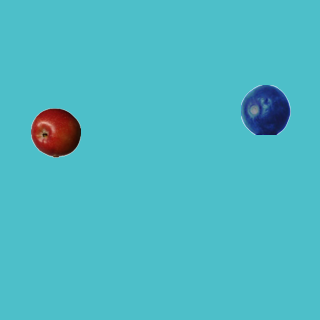Apple Braeburn: (30, 107, 80, 157)
Huckleberry: (240, 84, 290, 134)
